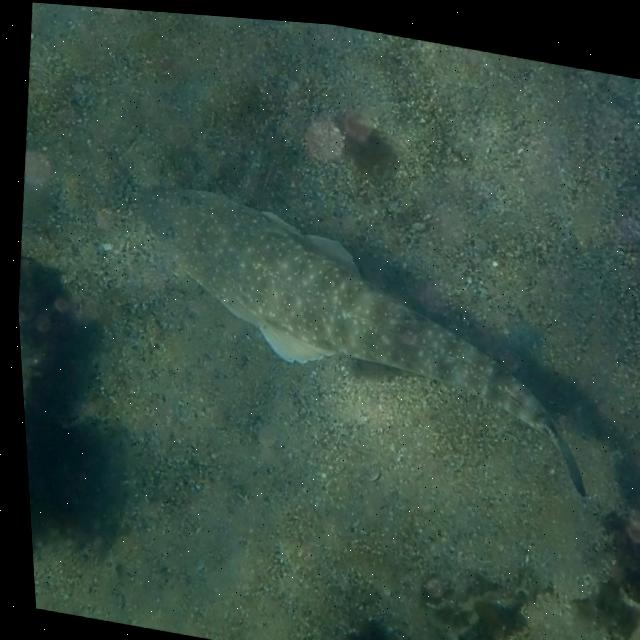Flathead: (98, 160, 617, 506)
